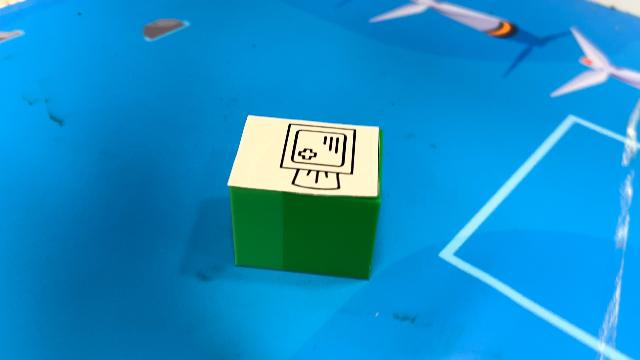napkin: (226, 111, 384, 280)
